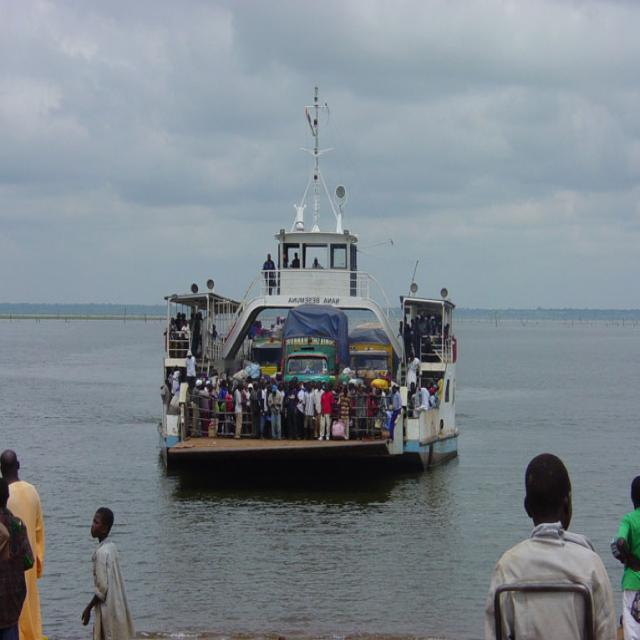passenger ship: (148, 144, 482, 462)
